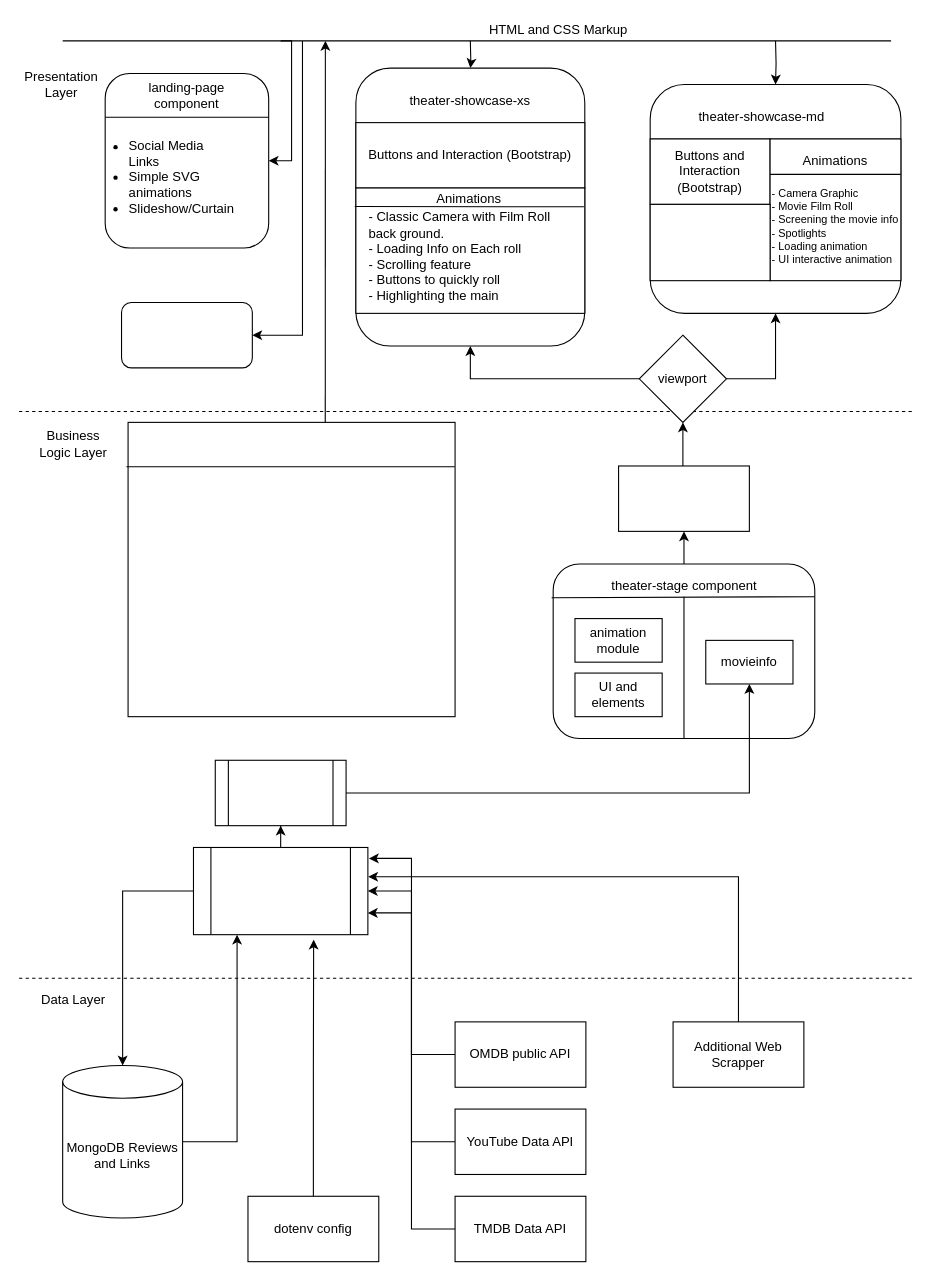
The diagram is 933 pixels wide and 1281 high, and some of its shapes have lost their labels. Each missing label, with the centre of its shape:
Angular Router Module: (683,498)
Angular Service "Fetcher": (280,792)
Asset Dump: (291,569)
footer: (186,334)
Mongoose & Express: (280,890)
